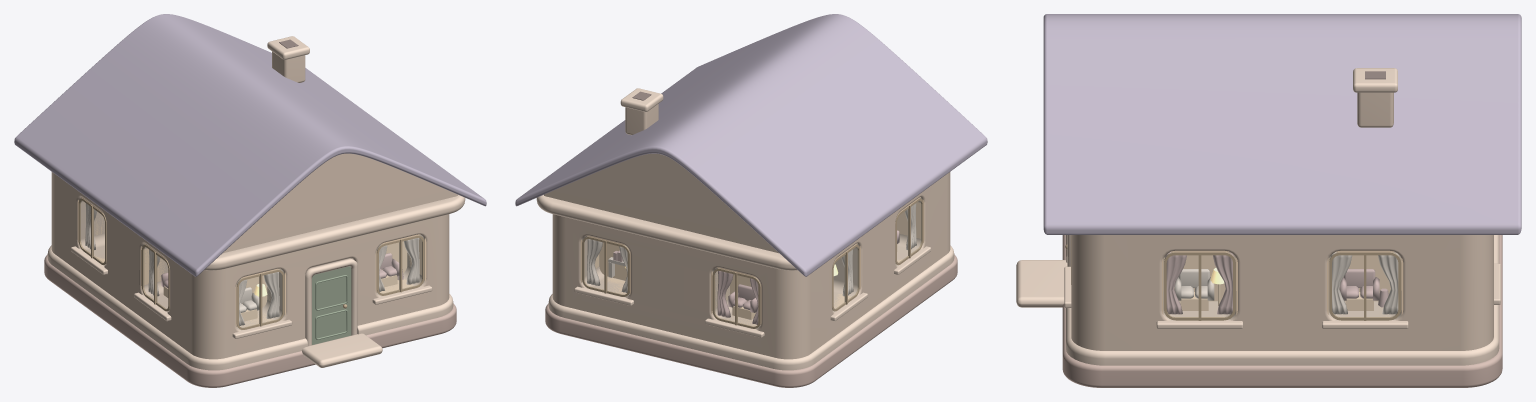
Rendered from ivory.glb.
3 views of the same model, side by side, from view 1: azimuth 30°, elevation 25°; view 2: azimuth 150°, elevation 25°; view 3: azimuth 270°, elevation 25° (orthographic). The views are drawn at different scales.
Parts seen in each view (by area): view 1: cottage-taupe__house61_roof_lilac, cottage-taupe__arch59_cream, cottage-taupe__arch59_pillow_trim, cottage-taupe__arch59_roof_stone, cottage-taupe__room59_glass_sage, cottage-taupe__door61_sage, cottage-taupe__room59_warm_backing, cottage-taupe__arch59_champagne_frame, cottage-taupe__room59_curtain_ivory, cottage-taupe__room59_curtain_blush; view 2: cottage-taupe__house61_roof_lilac, cottage-taupe__arch59_cream, cottage-taupe__arch59_pillow_trim, cottage-taupe__arch59_roof_stone, cottage-taupe__room59_glass_sage, cottage-taupe__arch59_champagne_frame, cottage-taupe__room59_warm_backing, cottage-taupe__room59_curtain_ivory, cottage-taupe__room59_curtain_blush; view 3: cottage-taupe__house61_roof_lilac, cottage-taupe__arch59_cream, cottage-taupe__arch59_pillow_trim, cottage-taupe__arch59_roof_stone, cottage-taupe__room59_glass_sage, cottage-taupe__room59_curtain_blush, cottage-taupe__room59_warm_backing, cottage-taupe__room59_curtain_ivory, cottage-taupe__arch59_champagne_frame.
Boxes of the visible parts, x1,y1,x2,y2 form: cottage-taupe__house61_roof_lilac: [14, 14, 486, 276]; cottage-taupe__arch59_cream: [51, 51, 457, 359]; cottage-taupe__arch59_pillow_trim: [47, 36, 465, 370]; cottage-taupe__arch59_roof_stone: [44, 254, 456, 387]; cottage-taupe__room59_glass_sage: [80, 201, 423, 329]; cottage-taupe__door61_sage: [312, 266, 351, 344]; cottage-taupe__room59_warm_backing: [77, 197, 426, 327]; cottage-taupe__arch59_champagne_frame: [78, 198, 424, 329]; cottage-taupe__room59_curtain_ivory: [85, 203, 419, 326]; cottage-taupe__room59_curtain_blush: [161, 253, 403, 288]; cottage-taupe__house61_roof_lilac: [515, 14, 987, 276]; cottage-taupe__arch59_cream: [544, 104, 950, 359]; cottage-taupe__arch59_pillow_trim: [536, 88, 954, 370]; cottage-taupe__arch59_roof_stone: [545, 254, 957, 387]; cottage-taupe__room59_glass_sage: [582, 201, 921, 328]; cottage-taupe__arch59_champagne_frame: [582, 198, 923, 328]; cottage-taupe__room59_warm_backing: [580, 197, 924, 326]; cottage-taupe__room59_curtain_ivory: [587, 203, 916, 296]; cottage-taupe__room59_curtain_blush: [613, 230, 899, 325]; cottage-taupe__house61_roof_lilac: [1043, 14, 1521, 234]; cottage-taupe__arch59_cream: [1071, 92, 1493, 350]; cottage-taupe__arch59_pillow_trim: [1016, 68, 1500, 365]; cottage-taupe__arch59_roof_stone: [1062, 235, 1502, 387]; cottage-taupe__room59_glass_sage: [1164, 253, 1400, 319]; cottage-taupe__room59_curtain_blush: [1165, 252, 1388, 314]; cottage-taupe__room59_warm_backing: [1162, 250, 1403, 316]; cottage-taupe__room59_curtain_ivory: [1174, 252, 1399, 314]; cottage-taupe__arch59_champagne_frame: [1065, 235, 1401, 320].
Bounding box in the file's own units: 9.15 × 6.57 × 10.51.
